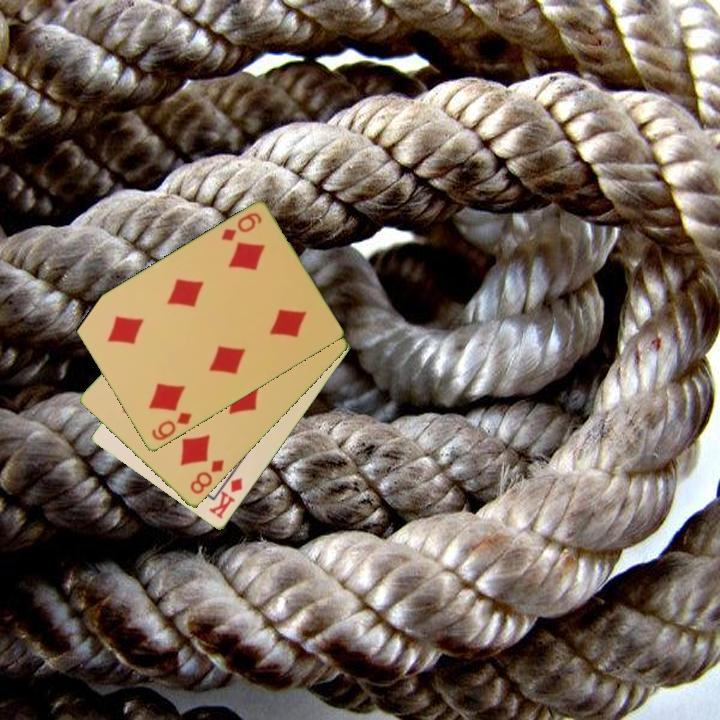6d: (148, 409, 195, 444), (218, 209, 265, 244)
8d: (187, 456, 227, 498)
Kd: (205, 474, 246, 522)
